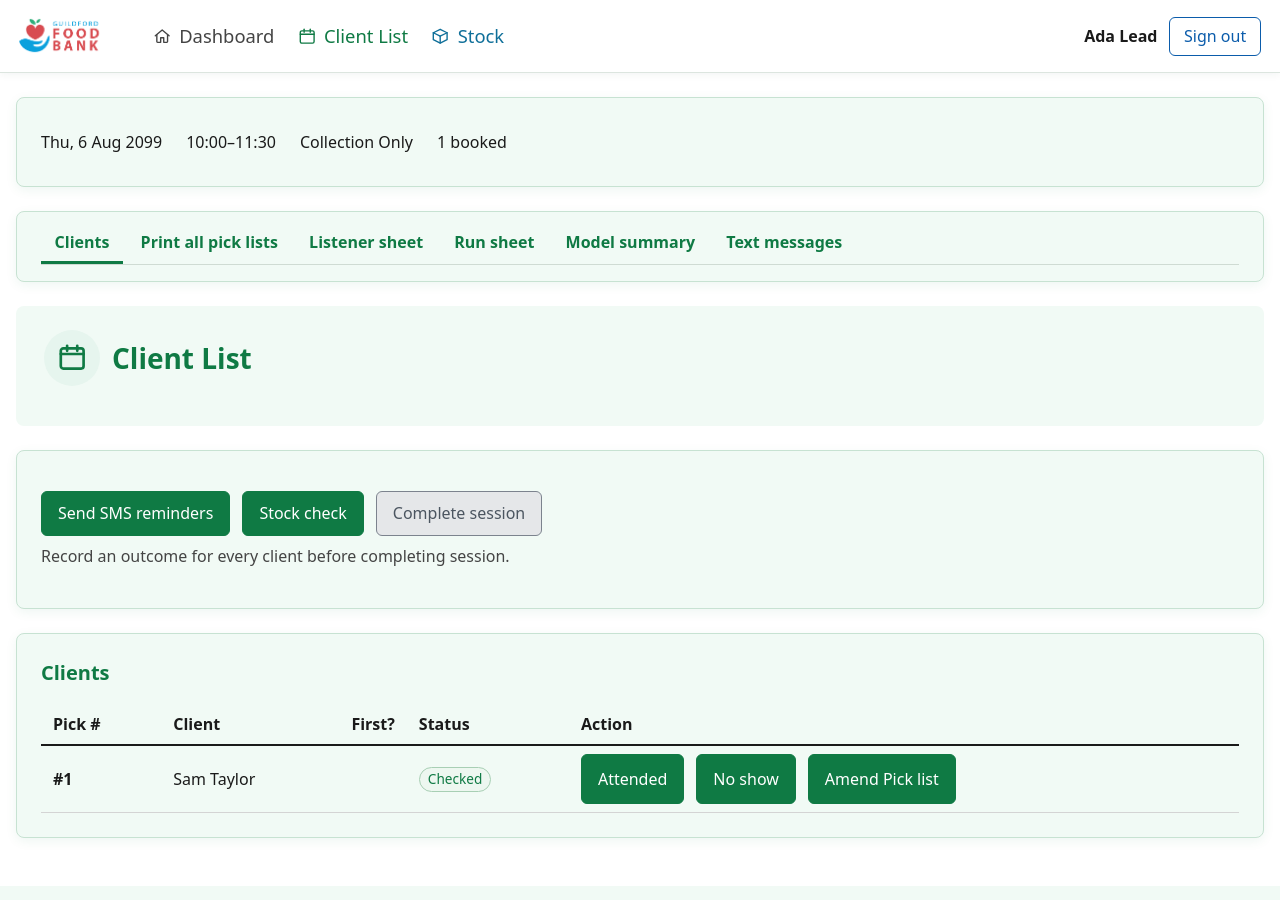
Test: the session stock check › shows what the session needs against what is on the shelves, and marks what is short
The width and height of the screenshot is (1280, 900).
Click the button "Stock check". click: [303, 513]
box: [242, 491, 364, 536]
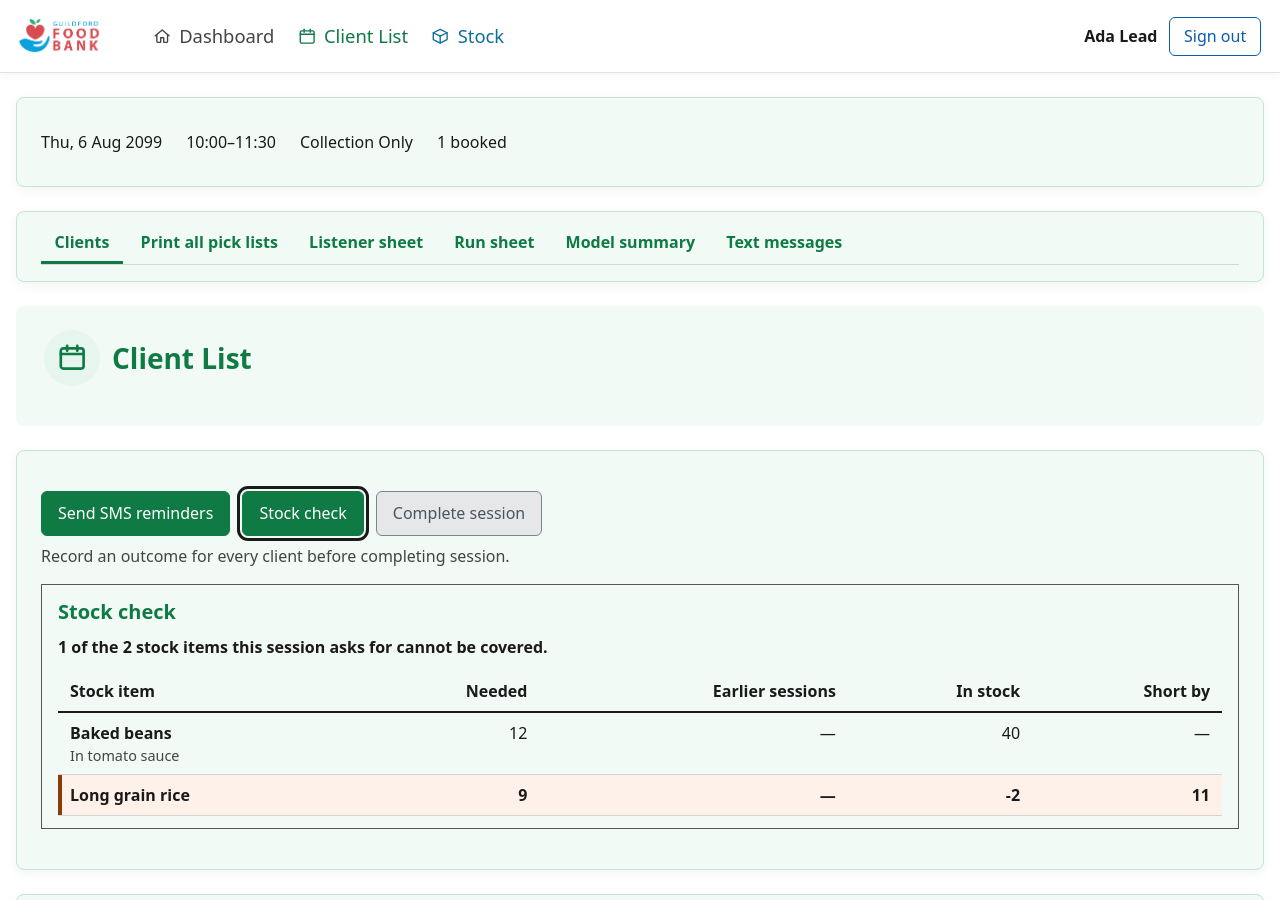
Check: the text "1 of the 2 stock items this session asks for cannot be covered." is shown, box [58, 635, 607, 659]
Check: the column heading "Baked beans In tomato sauce" is shown, box [58, 713, 360, 775]
Check: the row "Baked beans In tomato sauce 12 — 40 —" is shown, box [58, 713, 1222, 775]
